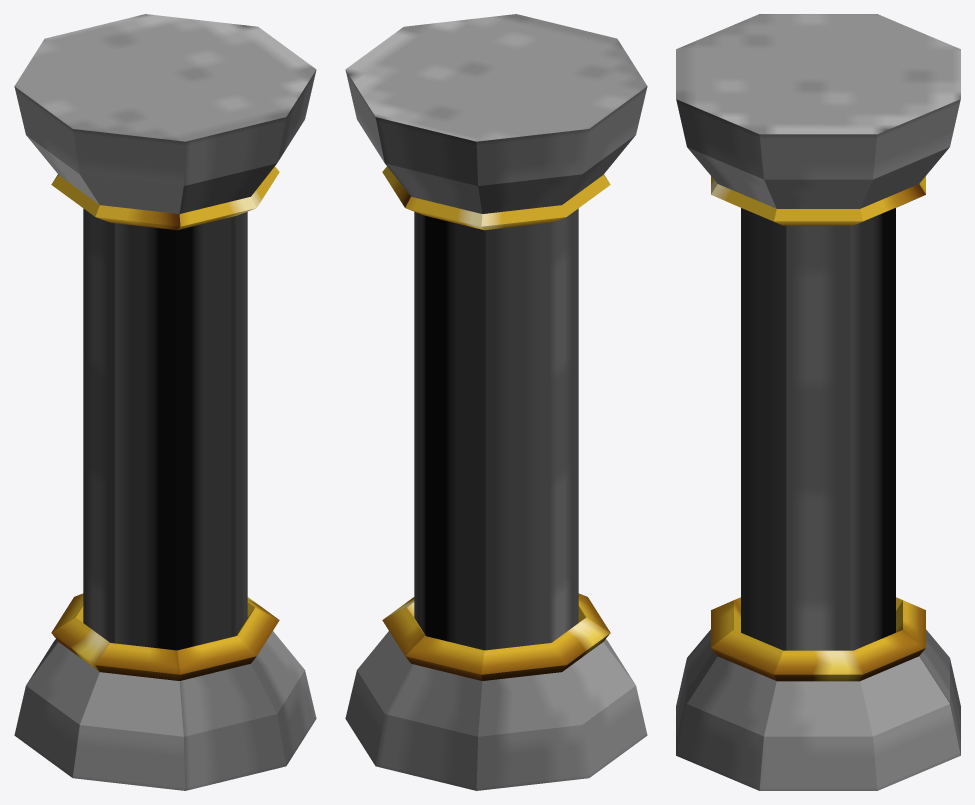
Rendered from pillar_687x02.obj.
3 renders of one model, left to right at view 1: azimuth 30°, elevation 25°; view 2: azimuth 150°, elevation 25°; view 3: azimuth 270°, elevation 25°, orthographic.
Parts seen in each view (by area): view 1: Decorative_Column; view 2: Decorative_Column; view 3: Decorative_Column.
Part boxes in pixels (x1,y1,x2,y2): Decorative_Column: (14,14,316,790); Decorative_Column: (345,14,647,790); Decorative_Column: (676,14,960,790).
Bounding box in the file's own units: 1.57 × 4 × 1.57.
